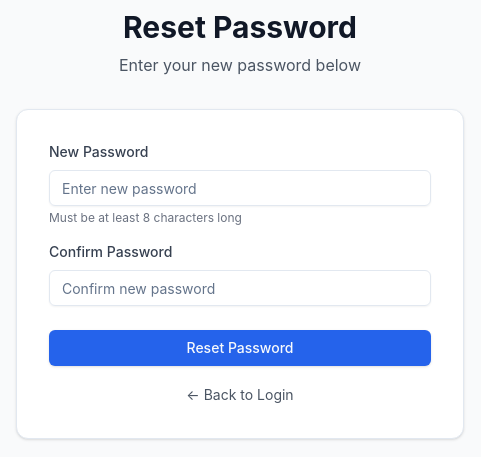
it: ResetPasswordPage - Form Submission › should display success message after submission
This screenshot has width=481, height=457.
Step 1. Type "newpassword123" into the password field with test id "password-input" → (240, 188), box [49,170,431,206]
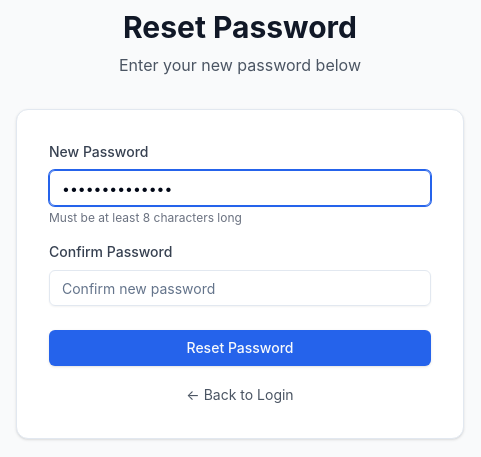
Step 2. Type "newpassword123" into the password field with test id "confirm-password-input" → (240, 288), box [49,270,431,306]
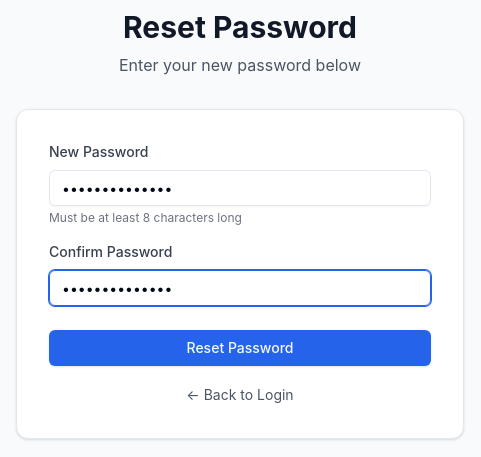
Step 3. Click the button with test id "submit-button" → (240, 348), box [49,330,431,366]
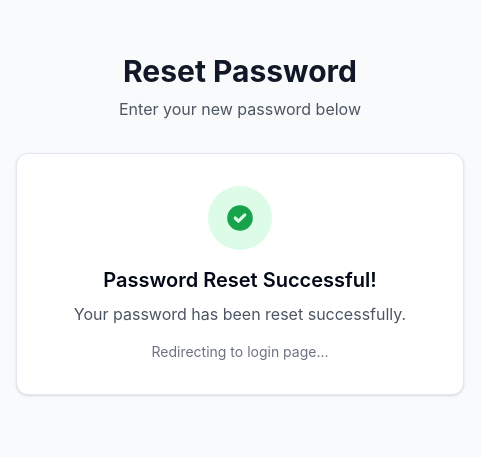
Result: the heading "Password Reset Successful!" is shown at [103,268,377,292]
